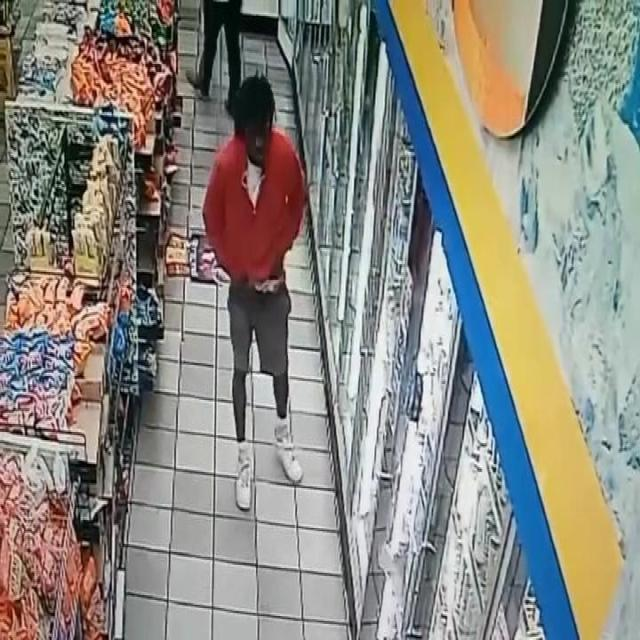Shoplifting: (194, 63, 328, 553)
